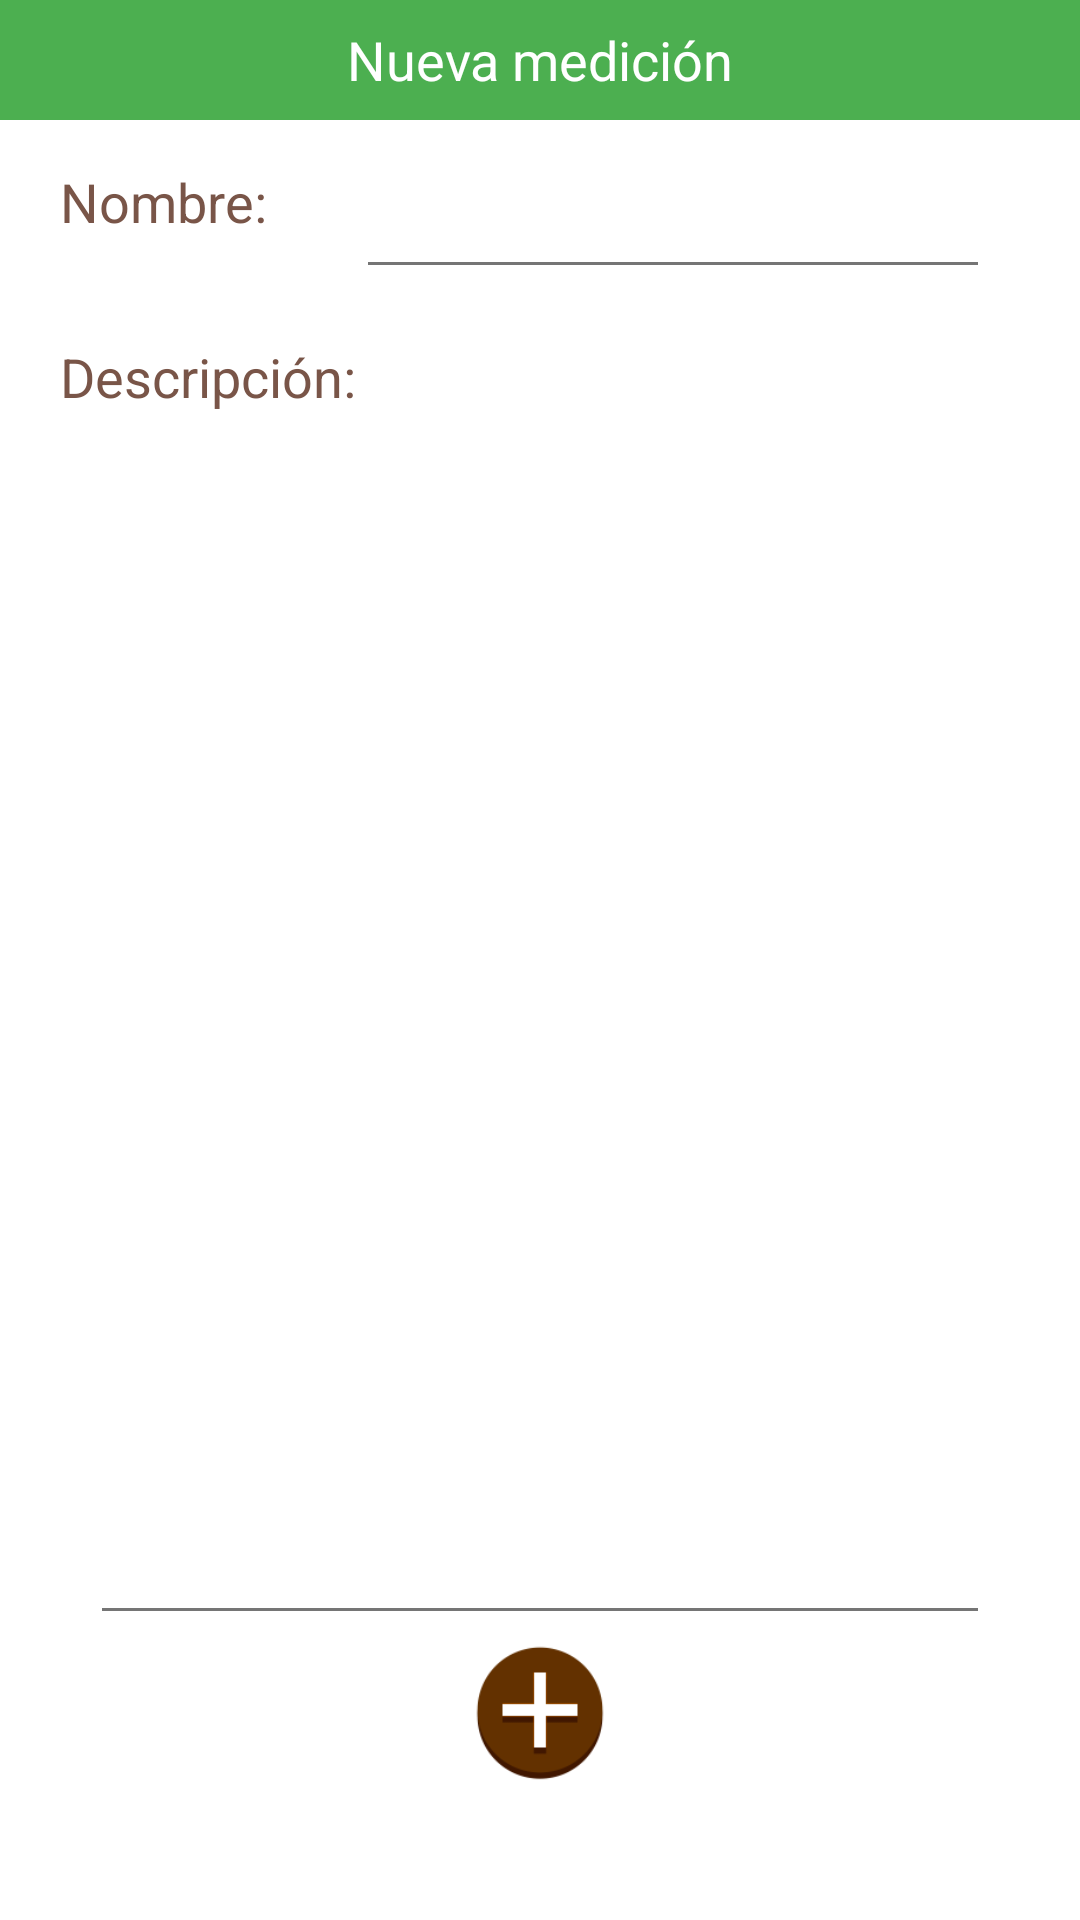

Icon click points for this 1080w x 1920h phone screenshot, format (x,y):
agregar: (540,1713)
